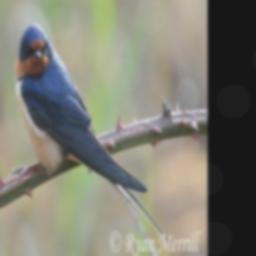Swallow: (12, 22, 172, 248)
